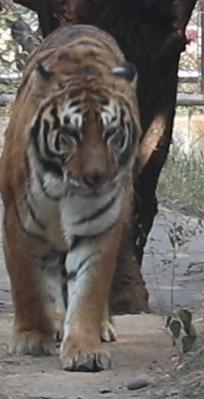tiger: (0, 25, 141, 368)
